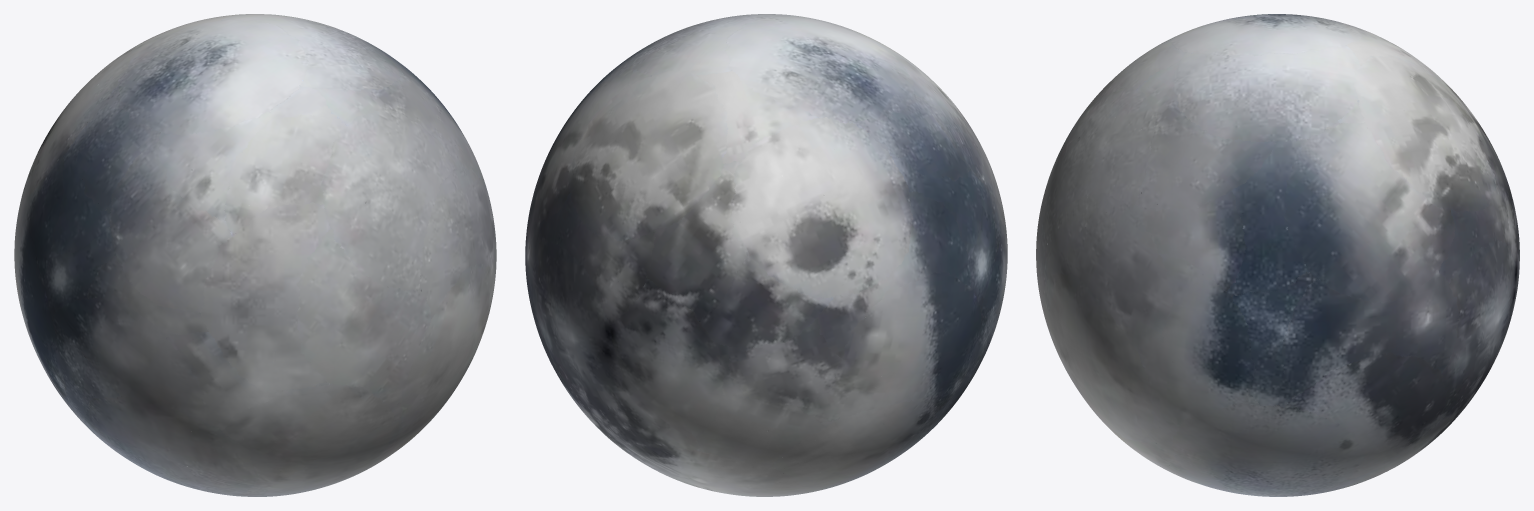
The picture shows the model from 3 angles, left to right: view 1: azimuth 30°, elevation 25°; view 2: azimuth 150°, elevation 25°; view 3: azimuth 270°, elevation 25°; orthographic projection.
Visible parts, largest first — view 1: node_0; view 2: node_0; view 3: node_0.
Part boxes in pixels (x1,y1,x2,y2): node_0: [14, 14, 496, 496]; node_0: [525, 14, 1007, 496]; node_0: [1036, 14, 1519, 496].
Bounding box in the file's own units: 1.2 × 1.2 × 1.2.
Materials: 1 (1 with a texture image).
